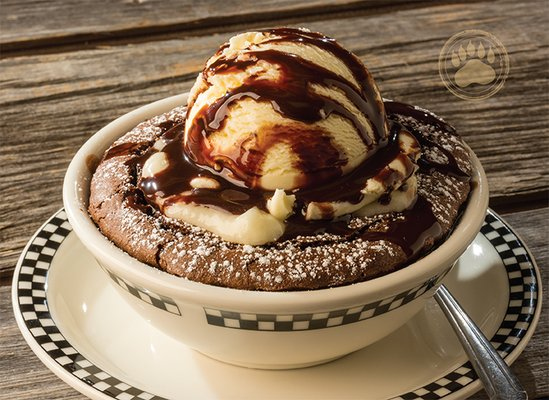soup: (89, 26, 434, 292)
sushi: (13, 28, 489, 376)
